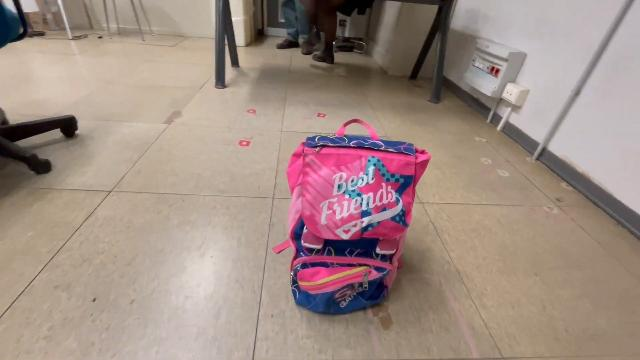Backpack: (270, 115, 438, 320)
Stool: (100, 0, 158, 44)
